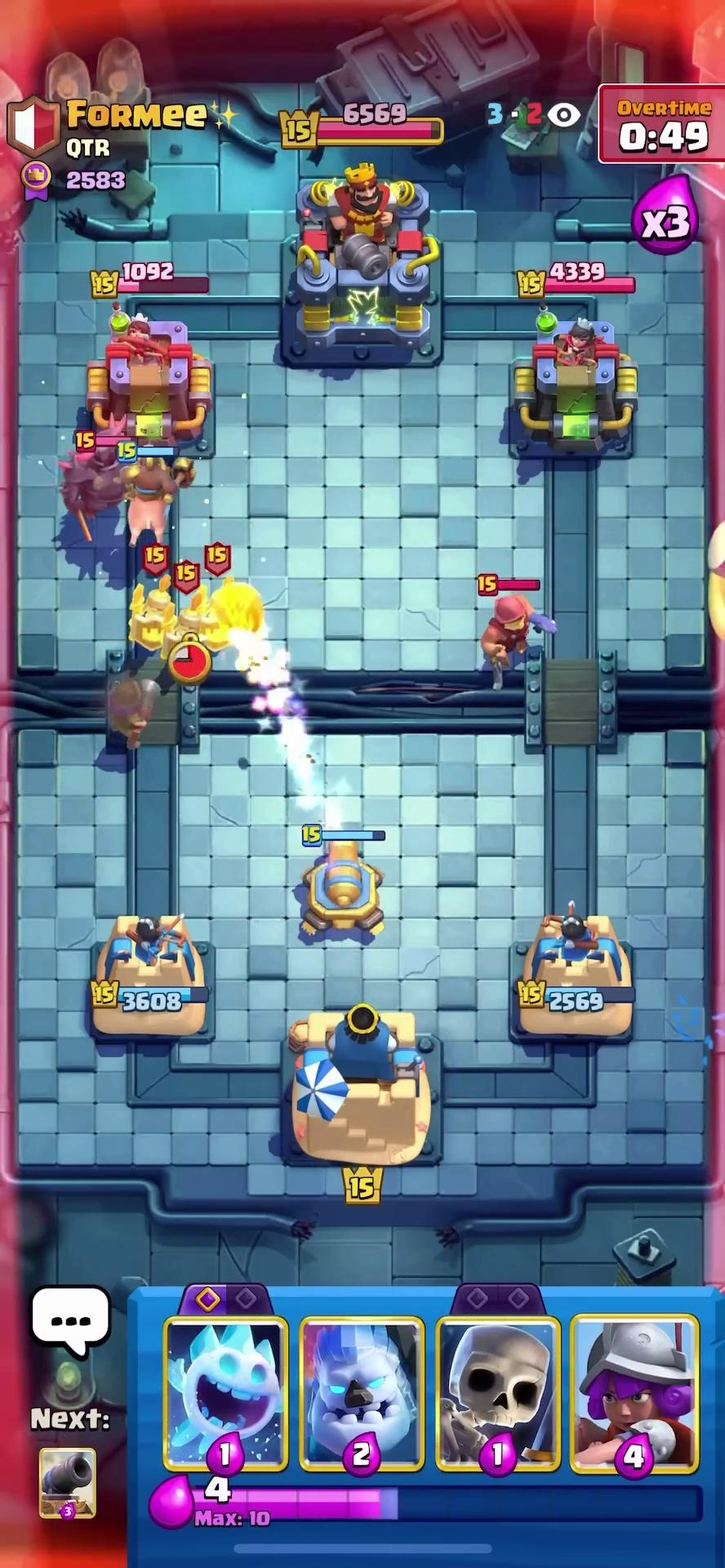cannon: (282, 819, 392, 941)
fireball: (194, 578, 267, 645)
hog_rider: (116, 441, 190, 547)
musketeer: (94, 662, 169, 741)
